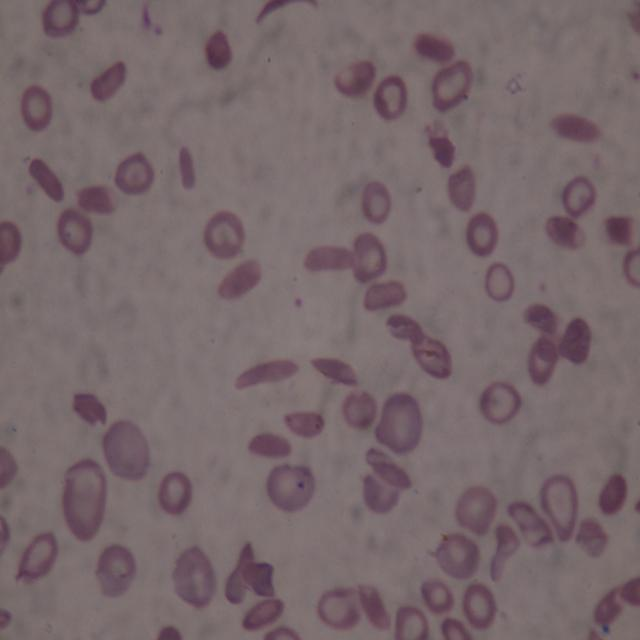Crystal: (215, 258, 262, 302), (27, 157, 66, 204), (301, 242, 355, 273), (357, 585, 391, 634), (240, 597, 287, 632), (88, 59, 126, 102), (551, 113, 603, 144), (412, 31, 457, 62), (246, 430, 292, 459), (283, 410, 326, 440), (178, 145, 196, 192), (438, 616, 473, 639)
Normal: (57, 207, 93, 255), (158, 469, 193, 516), (463, 581, 495, 629), (22, 84, 52, 132), (42, 1, 78, 37), (393, 603, 428, 639), (467, 214, 497, 255), (484, 263, 514, 301)
Others: (62, 460, 106, 542), (102, 420, 152, 481), (374, 393, 422, 454), (172, 544, 216, 610), (540, 472, 578, 542), (267, 462, 316, 510), (13, 530, 57, 582), (455, 482, 496, 537), (95, 543, 136, 597), (431, 60, 473, 112), (508, 501, 554, 548), (350, 232, 390, 284), (478, 380, 522, 427), (408, 333, 453, 378), (317, 584, 361, 630), (437, 531, 479, 579), (204, 210, 244, 258), (491, 523, 522, 582), (114, 150, 155, 194), (373, 74, 408, 122), (558, 316, 591, 364), (526, 334, 557, 385), (362, 278, 407, 312), (332, 62, 376, 96), (446, 162, 475, 212), (361, 180, 393, 225), (342, 389, 378, 429), (562, 175, 596, 217), (591, 585, 625, 624), (384, 314, 424, 346), (598, 472, 628, 514), (243, 561, 276, 599), (544, 217, 585, 247), (420, 580, 455, 615), (205, 29, 233, 72), (578, 518, 608, 558), (77, 184, 115, 215), (521, 304, 558, 335), (364, 448, 399, 478), (429, 134, 457, 170), (0, 220, 20, 264), (604, 215, 634, 244), (0, 443, 18, 490), (72, 390, 96, 424), (621, 248, 639, 287), (261, 625, 301, 640), (620, 576, 640, 606), (74, 0, 106, 17), (158, 625, 185, 640), (0, 515, 12, 544), (625, 11, 639, 35), (586, 629, 602, 640)
Sickle: (233, 356, 300, 392), (222, 540, 255, 606), (252, 0, 321, 25), (308, 355, 359, 388), (362, 472, 399, 514), (372, 460, 414, 492), (73, 399, 108, 426), (0, 606, 12, 632)
